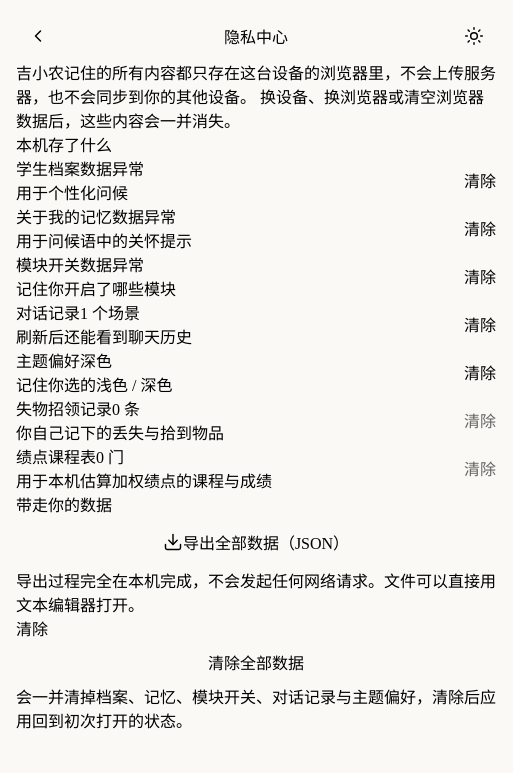
Test: PrivacyPage —— 导出 JSON › 导出成功后提示「已导出到你的下载目录」
The width and height of the screenshot is (513, 773).
Click the button "导出全部数据（JSON）" at (256, 542), box [16,516,496,568]
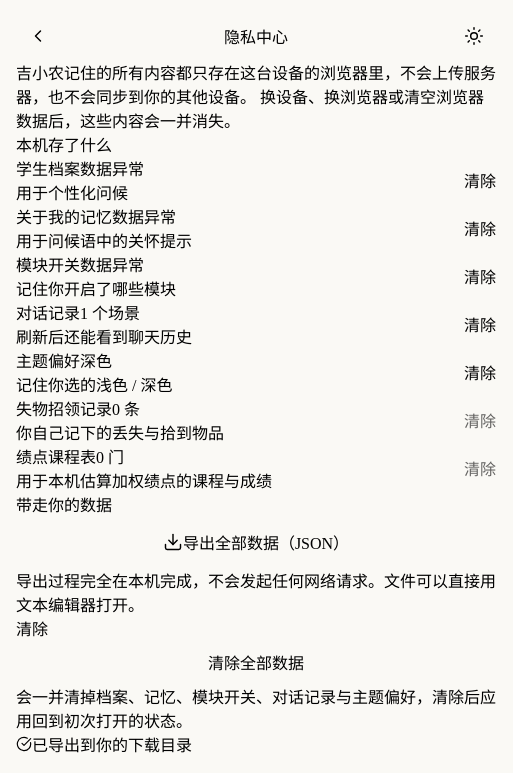
Expected: the text "已导出到你的下载目录" is shown, [32,732,192,756]
